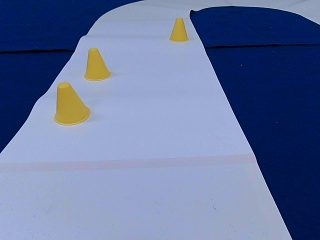cone: (54, 83, 90, 124), (83, 48, 110, 80), (169, 18, 187, 41)
